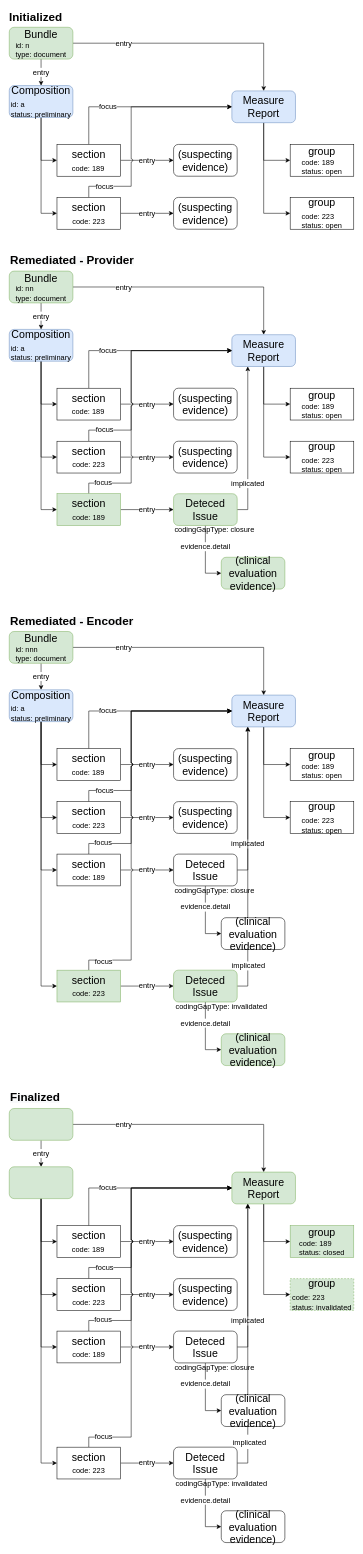
The diagram is 363 pixels wide and 1554 high, and some of its shapes have lost their labels. Each missing label, with the centre of its shape:
Bundle id: z type: document: the point at 41,1124
Composition id: a status: final: the point at 41,1182
